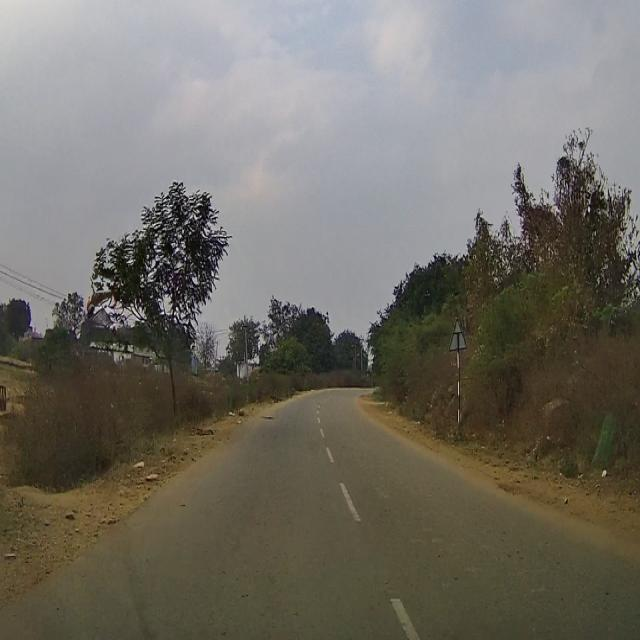tree ahead at: (94, 163, 217, 437)
